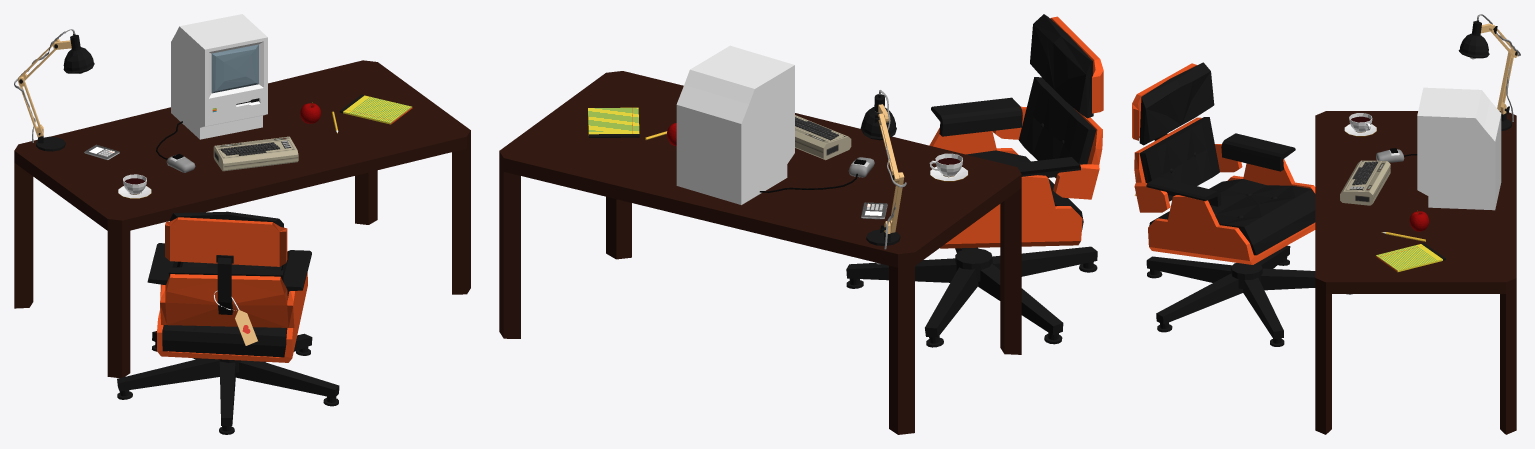
Rendered from desk 2.glb.
3 views of the same model, side by side, from view 1: azimuth 30°, elevation 25°; view 2: azimuth 150°, elevation 25°; view 3: azimuth 270°, elevation 25° (orthographic). The views are drawn at different scales.
Visible parts, largest first — view 1: Table, That Expensive Chair, Buffer Layer (×5), Desk Lamp, Keyboard4; view 2: Table, That Expensive Chair, Buffer Layer (×4), Desk Lamp, Keyboard4; view 3: That Expensive Chair, Table, Buffer Layer (×4), Desk Lamp, Keyboard4.
Part boxes in pixels (x1,y1,x2,y2): Table: (14,60,470,377); That Expensive Chair: (117,211,339,434); Buffer Layer (×5): (118,14,411,198); Desk Lamp: (14,29,94,142); Keyboard4: (213,136,298,171); Table: (499,71,1021,434); That Expensive Chair: (846,14,1103,347); Buffer Layer (×4): (588,45,967,204); Desk Lamp: (860,90,906,264); Keyboard4: (795,115,851,160); That Expensive Chair: (1132,62,1352,346); Table: (1315,111,1516,434); Buffer Layer (×4): (1344,87,1501,271); Desk Lamp: (1458,14,1520,121); Keyboard4: (1340,160,1390,205).
Bounding box in the file's own units: 3.45 × 2.47 × 3.2.
Materials: 44 (1 with a texture image).
